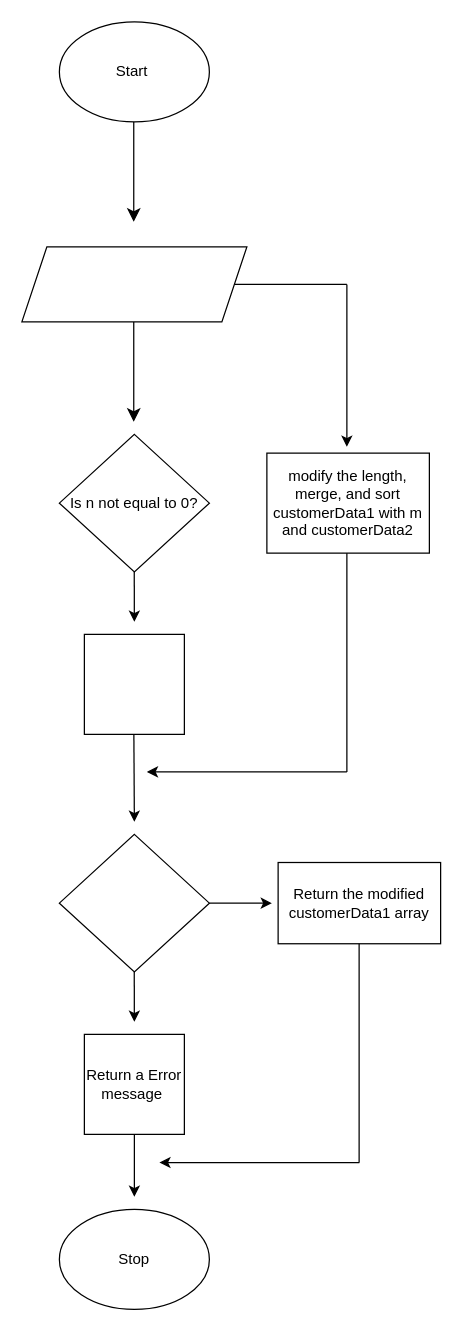
Image size: 463x1331. Some labels were removed from this diagram. The shapes that lost their labels are listed below. From the top down, each one's centre as x and y in pixels, then its label:
At (x=134, y=284): "input customerData1, customerData2, m, and n".
At (x=133, y=683): "Skip the if condition entirely".
At (x=133, y=902): "Is every element in the array a positive integer?".
